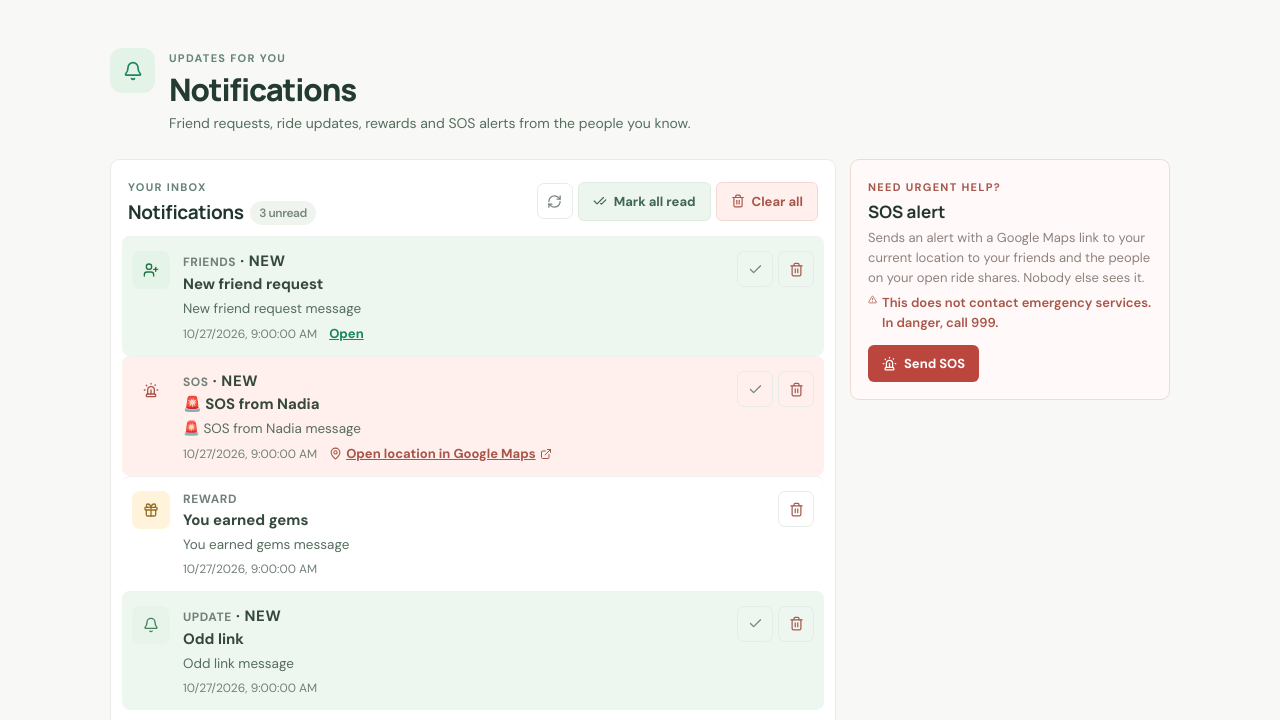
Test: NotificationsPage › marks one as read and tells the bell
Click the button named "Mark \"New friend request\" as read".
click(755, 269)  # box [737,251,773,287]
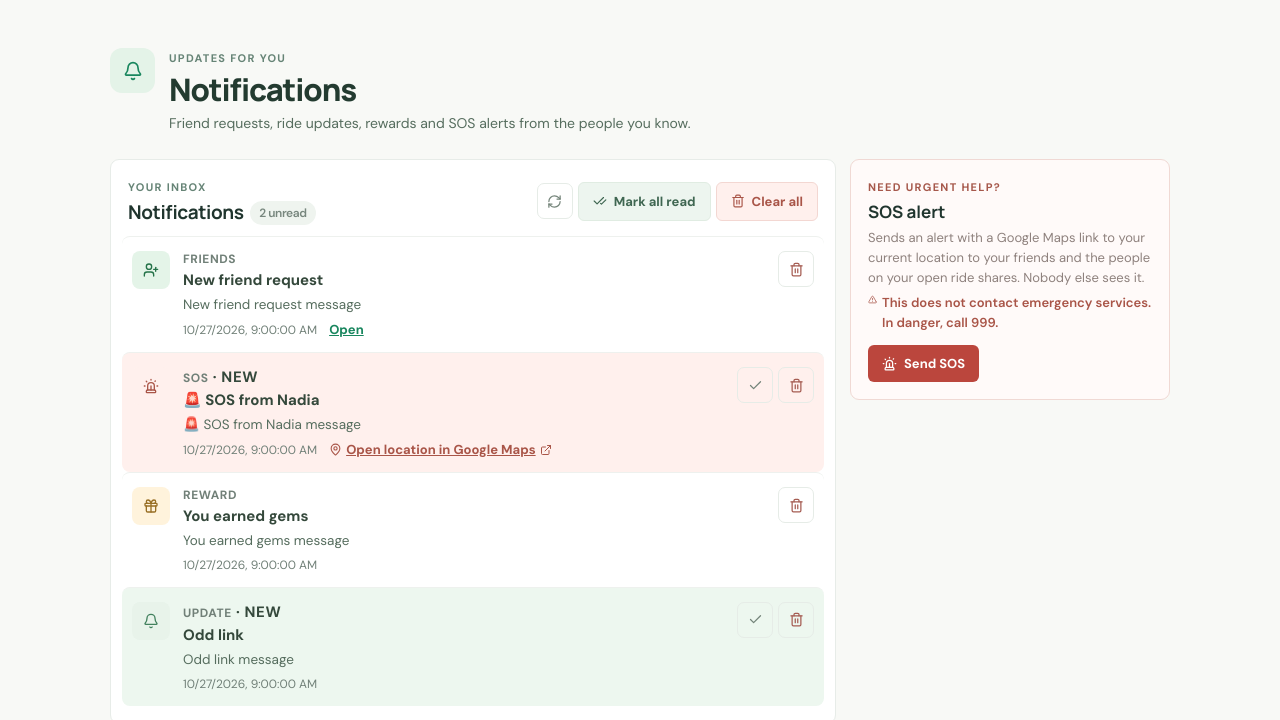
Now the text with test id "page-unread" reads "2 unread", box [259,205,307,221]
